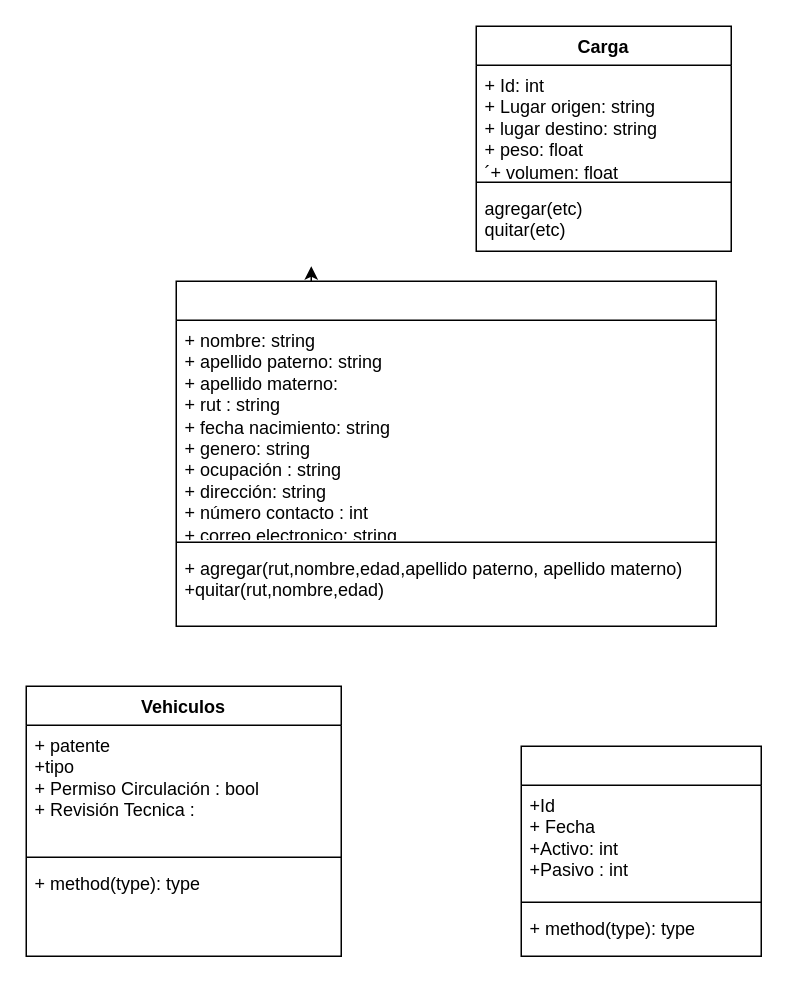
This 788x987 diagram has some shape labels left out. The box of each missing label's shape, as (x1, y1, x2, y2) in pixels:
Contabilidad: (520, 745, 761, 956)
Persona: (175, 280, 716, 626)
